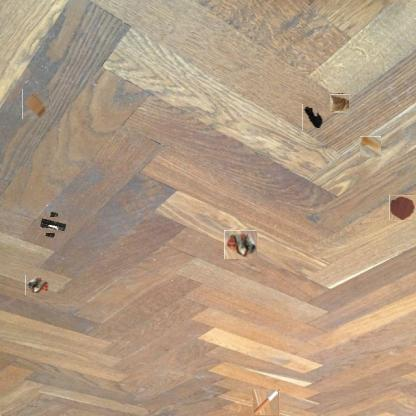dirty: (225, 229, 256, 260), (22, 90, 50, 119), (252, 389, 280, 416), (40, 213, 64, 237), (302, 104, 323, 130), (25, 275, 50, 295), (330, 94, 349, 112)
liquid: (389, 194, 416, 221), (359, 136, 381, 157)
